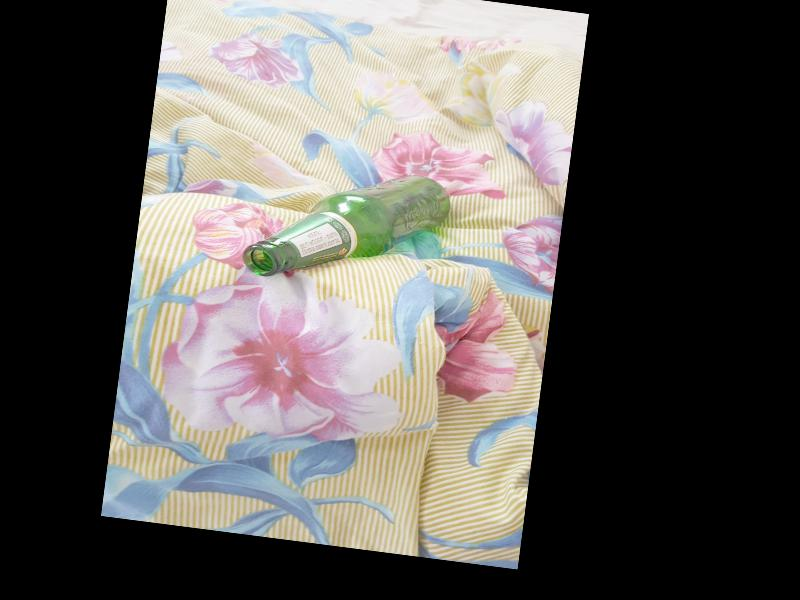Beer: (241, 155, 451, 299)
